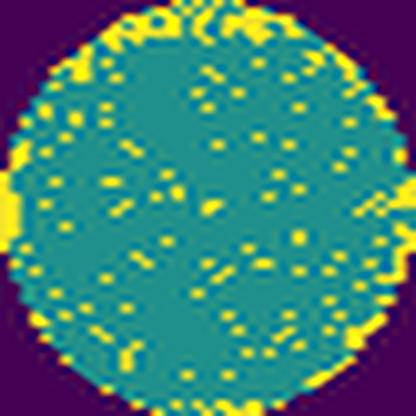Edge-Loc: (98, 0, 305, 54), (0, 138, 35, 260), (384, 169, 415, 217)
